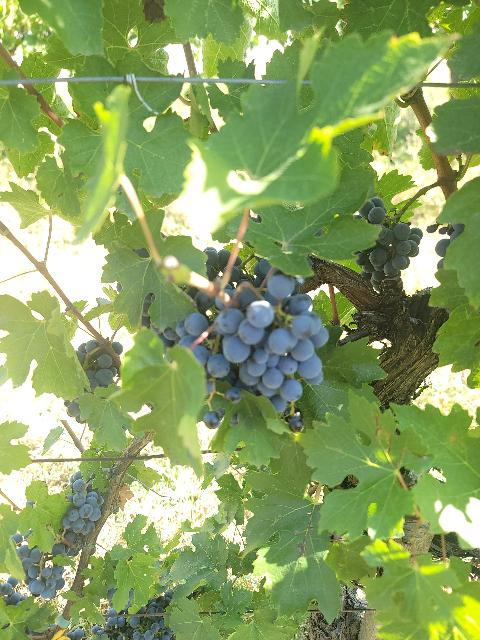grapes: (215, 284, 329, 410), (355, 198, 421, 291), (52, 471, 104, 556), (16, 545, 65, 600), (76, 339, 119, 391), (112, 341, 122, 359)
